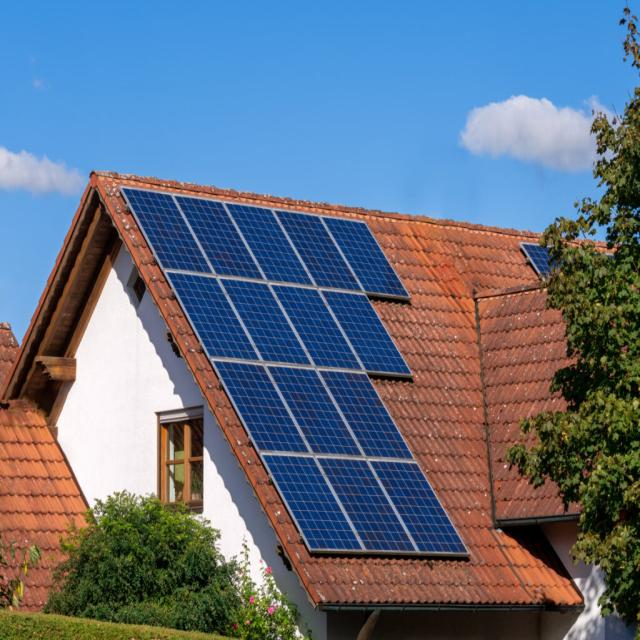clean-solar-panel: (121, 186, 468, 556)
